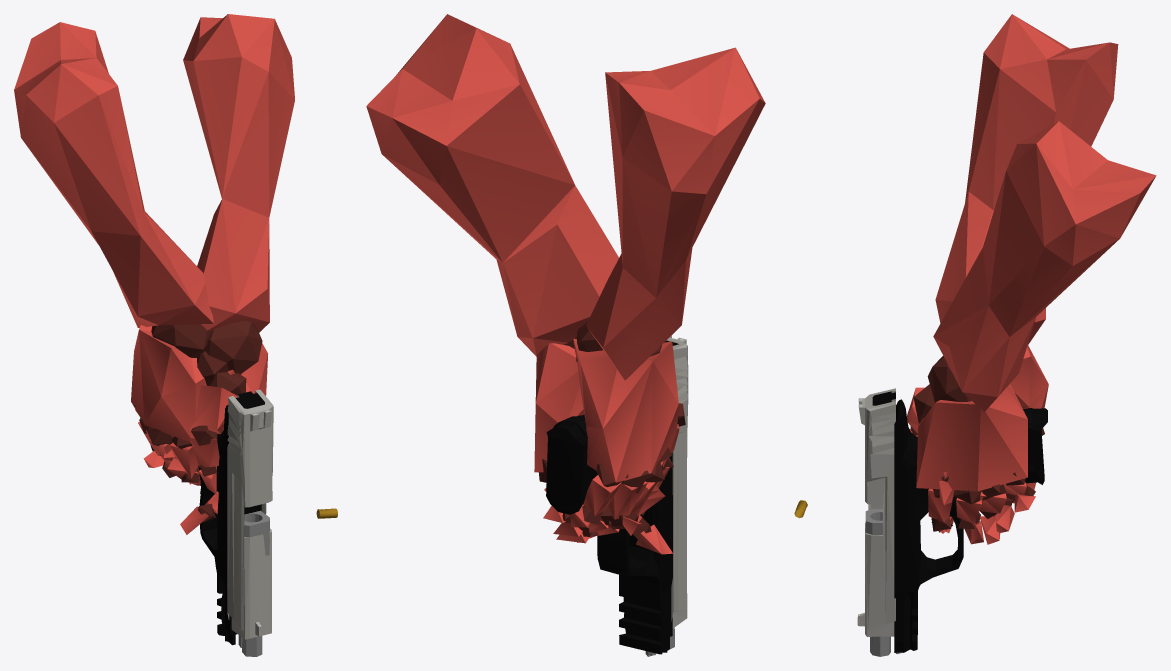
File: M&P9shoot3LowP_000205.obj
3 views of the same model, side by side, from view 1: azimuth 30°, elevation 25°; view 2: azimuth 150°, elevation 25°; view 3: azimuth 270°, elevation 25° (orthographic). The views are drawn at different scales.
Parts seen in each view (by area): view 1: Beta_Surface.001_Beta_Surface.002, slide_平面.002, Beta_Joints.001_Beta_Joints.002, triger_平面.001; view 2: Beta_Surface.001_Beta_Surface.002, triger_平面.001, slide_平面.002, Beta_Joints.001_Beta_Joints.002; view 3: Beta_Surface.001_Beta_Surface.002, triger_平面.001, slide_平面.002, Beta_Joints.001_Beta_Joints.002.
Part boxes in pixels (x1,y1,x2,y2): Beta_Surface.001_Beta_Surface.002: (14,14,294,534); slide_平面.002: (227,389,273,639); Beta_Joints.001_Beta_Joints.002: (134,320,262,522); triger_平面.001: (198,405,269,656); Beta_Surface.001_Beta_Surface.002: (366,14,765,554); triger_平面.001: (546,415,674,656); slide_平面.002: (664,336,688,628); Beta_Joints.001_Beta_Joints.002: (538,321,685,542); Beta_Surface.001_Beta_Surface.002: (907,14,1156,544); triger_平面.001: (865,399,1047,656); slide_平面.002: (857,388,895,636); Beta_Joints.001_Beta_Joints.002: (910,356,1044,532).
Size of the model in its own units: 42.47 by 80.1 by 45.59.
